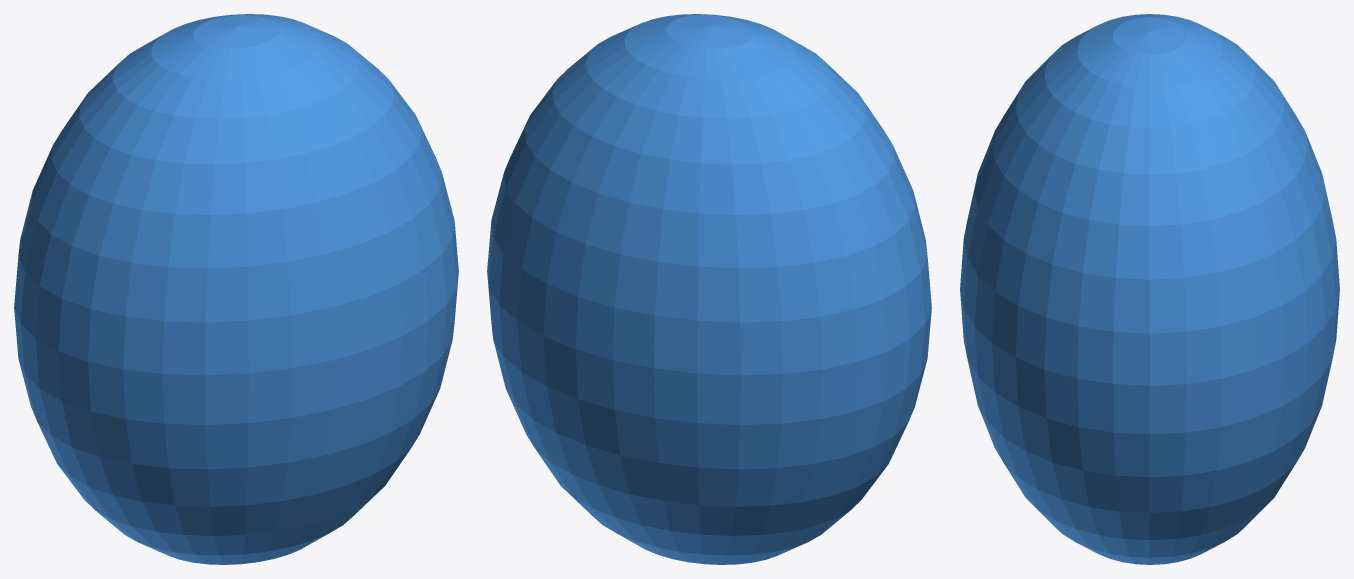
File: Boto.obj
3 views of the same model, side by side, from view 1: azimuth 30°, elevation 25°; view 2: azimuth 150°, elevation 25°; view 3: azimuth 270°, elevation 25° (orthographic).
Visible parts, largest first — view 1: Water_Aura; view 2: Water_Aura; view 3: Water_Aura.
Boxes of the visible parts, left/top/right/bottom form: Water_Aura: left=14, top=14, right=458, bottom=564; Water_Aura: left=487, top=14, right=931, bottom=564; Water_Aura: left=960, top=14, right=1339, bottom=564.
Size of the model in its own units: 2.88 by 3.6 by 2.4.
